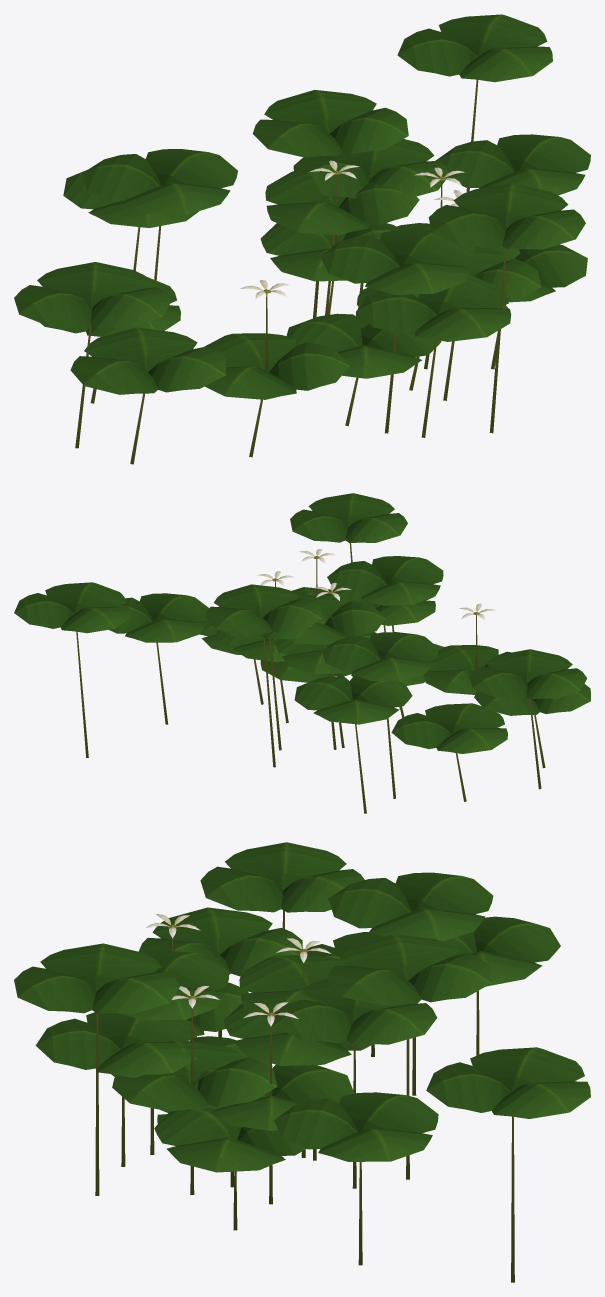
Rendered from WoodSorrel_A.fbx.
3 views of the same model, one above another, from view 1: azimuth 30°, elevation 25°; view 2: azimuth 150°, elevation 25°; view 3: azimuth 270°, elevation 25° (orthographic). The views are drawn at different scales.
Visible parts, largest first — view 1: WoodSorrel_A_LOD0; view 2: WoodSorrel_A_LOD0; view 3: WoodSorrel_A_LOD0.
Boxes of the visible parts, x1,y1,x2,y2 form: WoodSorrel_A_LOD0: [14, 14, 590, 464]; WoodSorrel_A_LOD0: [14, 493, 590, 813]; WoodSorrel_A_LOD0: [14, 842, 590, 1282].
Size of what is drawn, in the model's own units: 0.5963 by 0.1998 by 0.4442.
